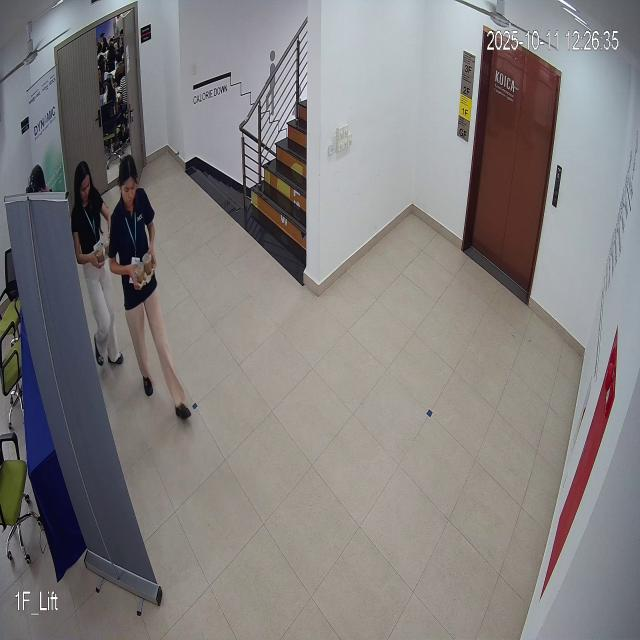face: (115, 150, 138, 217)
